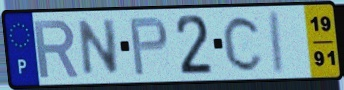2: (175, 13, 216, 77)
C: (221, 13, 266, 73)
I: (269, 9, 288, 77)
N: (77, 17, 121, 78)
P: (127, 15, 171, 78)
R: (31, 18, 81, 80)
